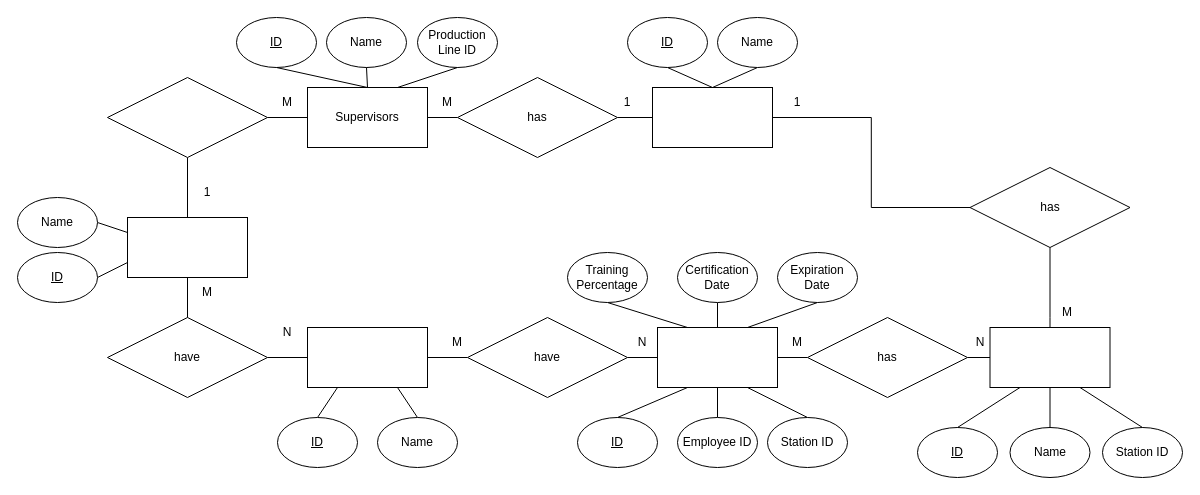
The diagram is 1200 pixels wide and 495 high, and some of its shapes have lost their labels. Here are the shapes that lost their labels. From the top down, the box of each, then its label:
(106, 76, 268, 158): are in charge of
(652, 86, 772, 148): Shift
(126, 216, 248, 278): Production lines
(306, 326, 428, 388): Stations
(656, 326, 778, 388): Certifications
(989, 326, 1110, 388): Employee
